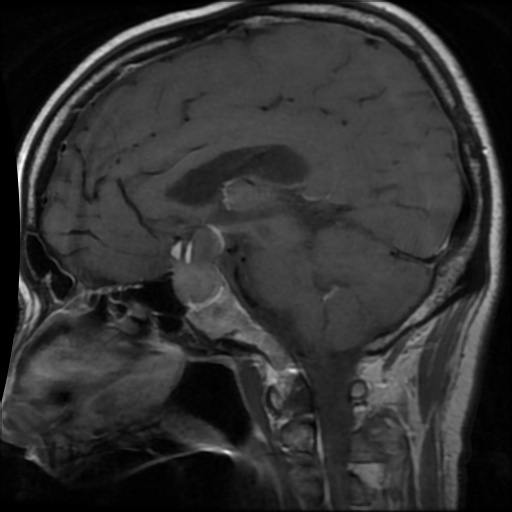pituitary: (174, 227, 221, 304)
